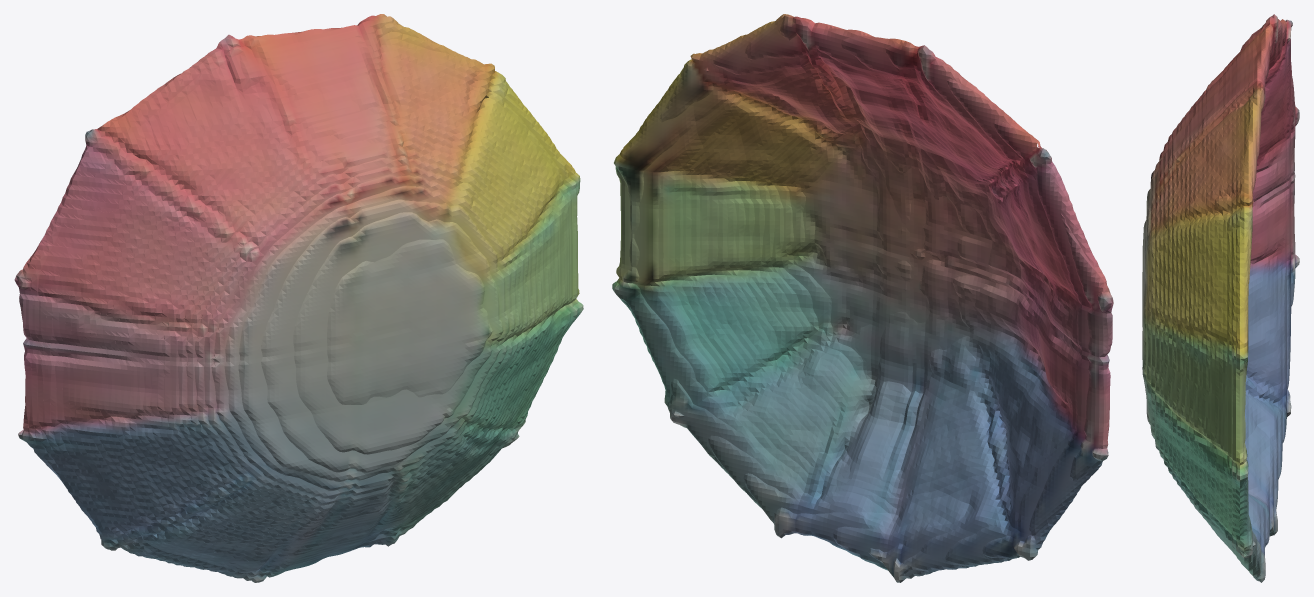
Rendered from umbrella.glb.
3 renders of one model, left to right at view 1: azimuth 30°, elevation 25°; view 2: azimuth 150°, elevation 25°; view 3: azimuth 270°, elevation 25°, orthographic. The views are drawn at different scales.
Visible parts, largest first — view 1: world; view 2: world; view 3: world.
Part boxes in pixels (<box>): world: <box>14,14,583,582</box>; world: <box>612,14,1113,582</box>; world: <box>1142,14,1299,582</box>.
Size of the model in its own units: 0.9156 by 0.8991 by 0.2521.
